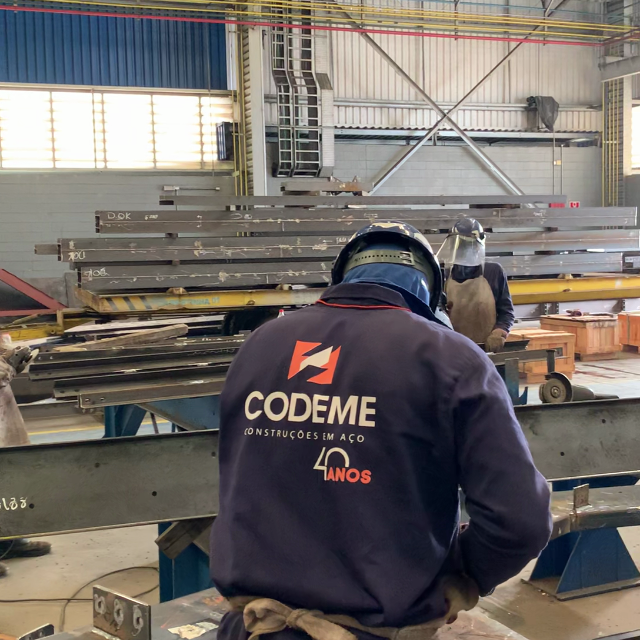face-shield: (441, 236, 487, 269)
helmet: (331, 219, 446, 299), (454, 215, 489, 237)
person: (200, 219, 557, 640), (441, 214, 512, 356), (1, 356, 37, 447)
safety-shoe: (1, 542, 52, 558)
